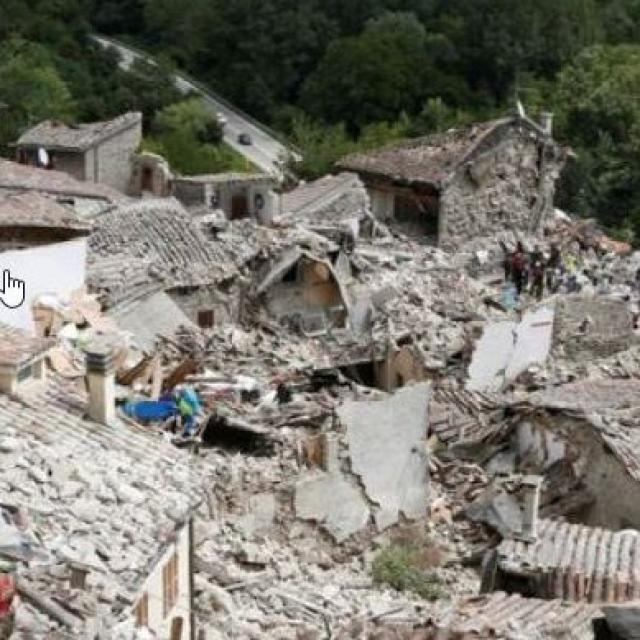collapsed_building: (0, 406, 191, 638), (426, 382, 638, 588), (378, 119, 553, 338), (197, 374, 405, 545), (237, 222, 364, 364), (91, 222, 217, 362)
